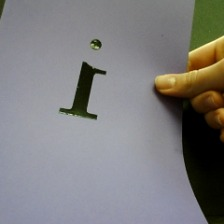violet1: (54, 35, 115, 124)
